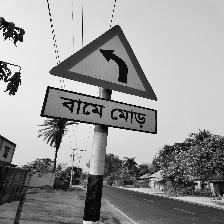Left-Turn: (43, 24, 159, 135)
